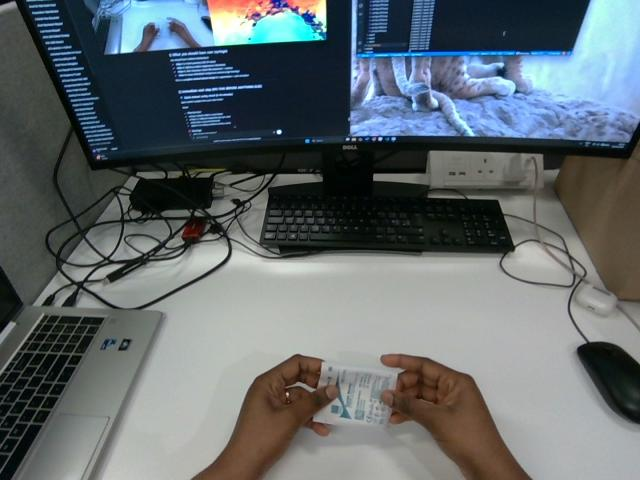gauze: (313, 362, 396, 426)
